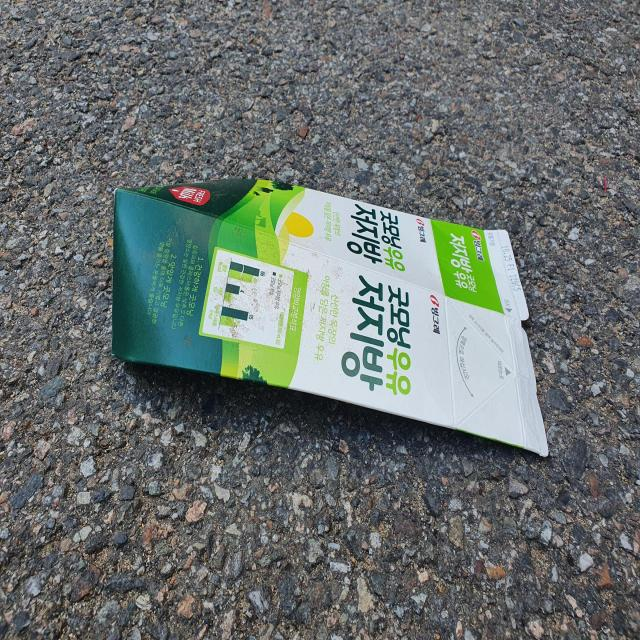paperpack: (111, 179, 549, 456)
